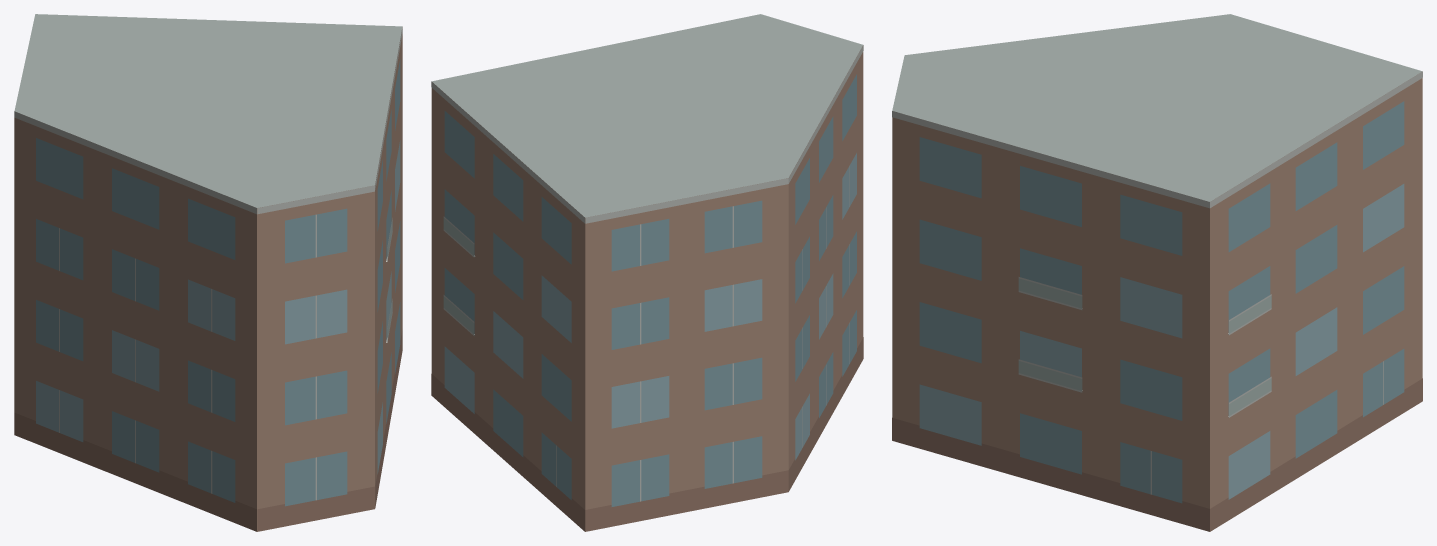
The model's file is survey-upis-32956069.glb.
The picture shows the model from 3 angles, left to right: view 1: azimuth 30°, elevation 25°; view 2: azimuth 150°, elevation 25°; view 3: azimuth 270°, elevation 25°; orthographic projection. The views are drawn at different scales.
Visible parts, largest first — view 1: survey-upis-32956069.tmp; view 2: survey-upis-32956069.tmp; view 3: survey-upis-32956069.tmp.
Part boxes in pixels (x1,y1,x2,y2): survey-upis-32956069.tmp: (14,14,402,531); survey-upis-32956069.tmp: (431,14,863,531); survey-upis-32956069.tmp: (892,14,1422,531).
Size of the model in its own units: 15.33 by 12.54 by 18.29.
